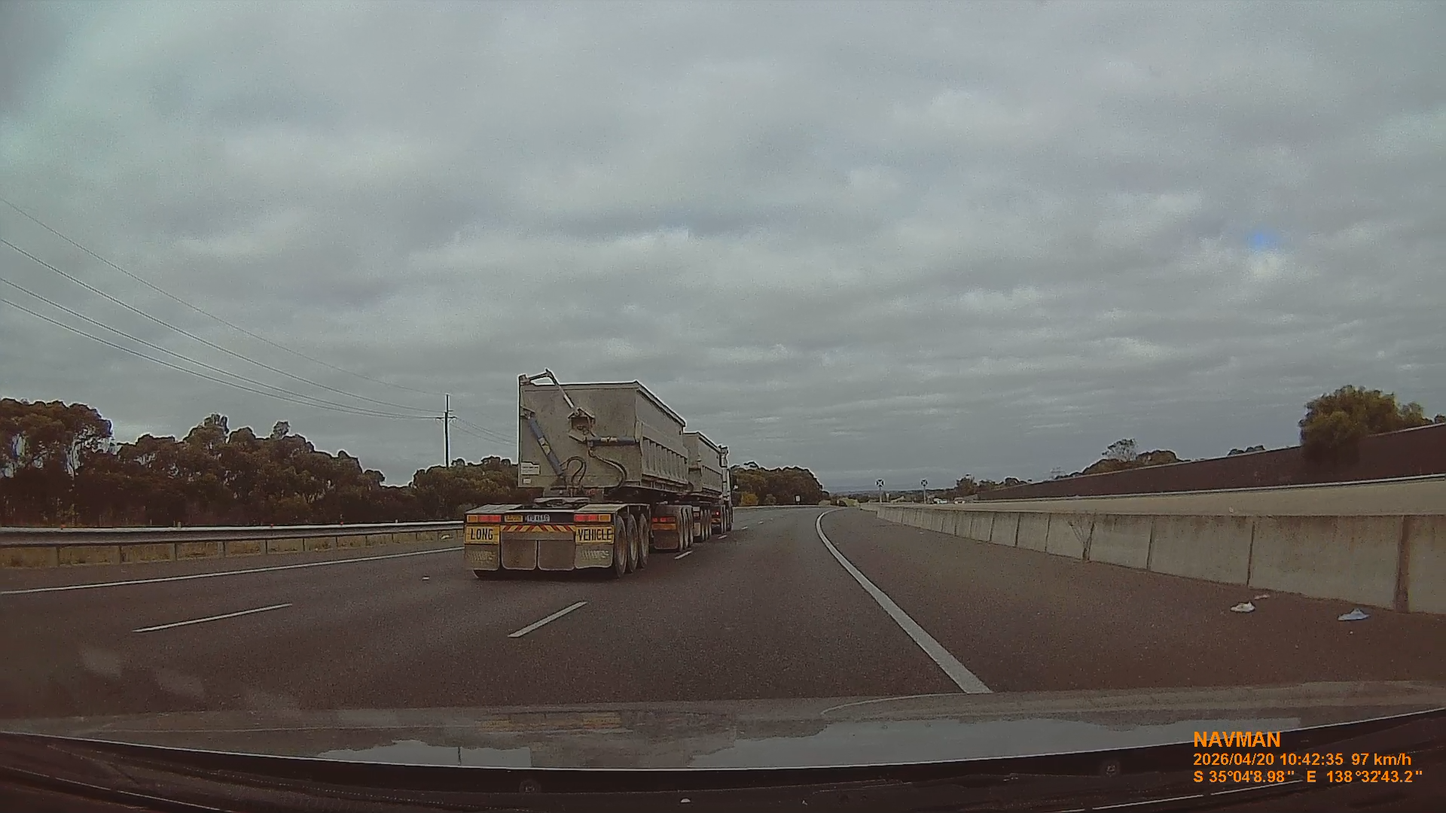road barriers: (841, 477, 1444, 613), (0, 521, 461, 568)
